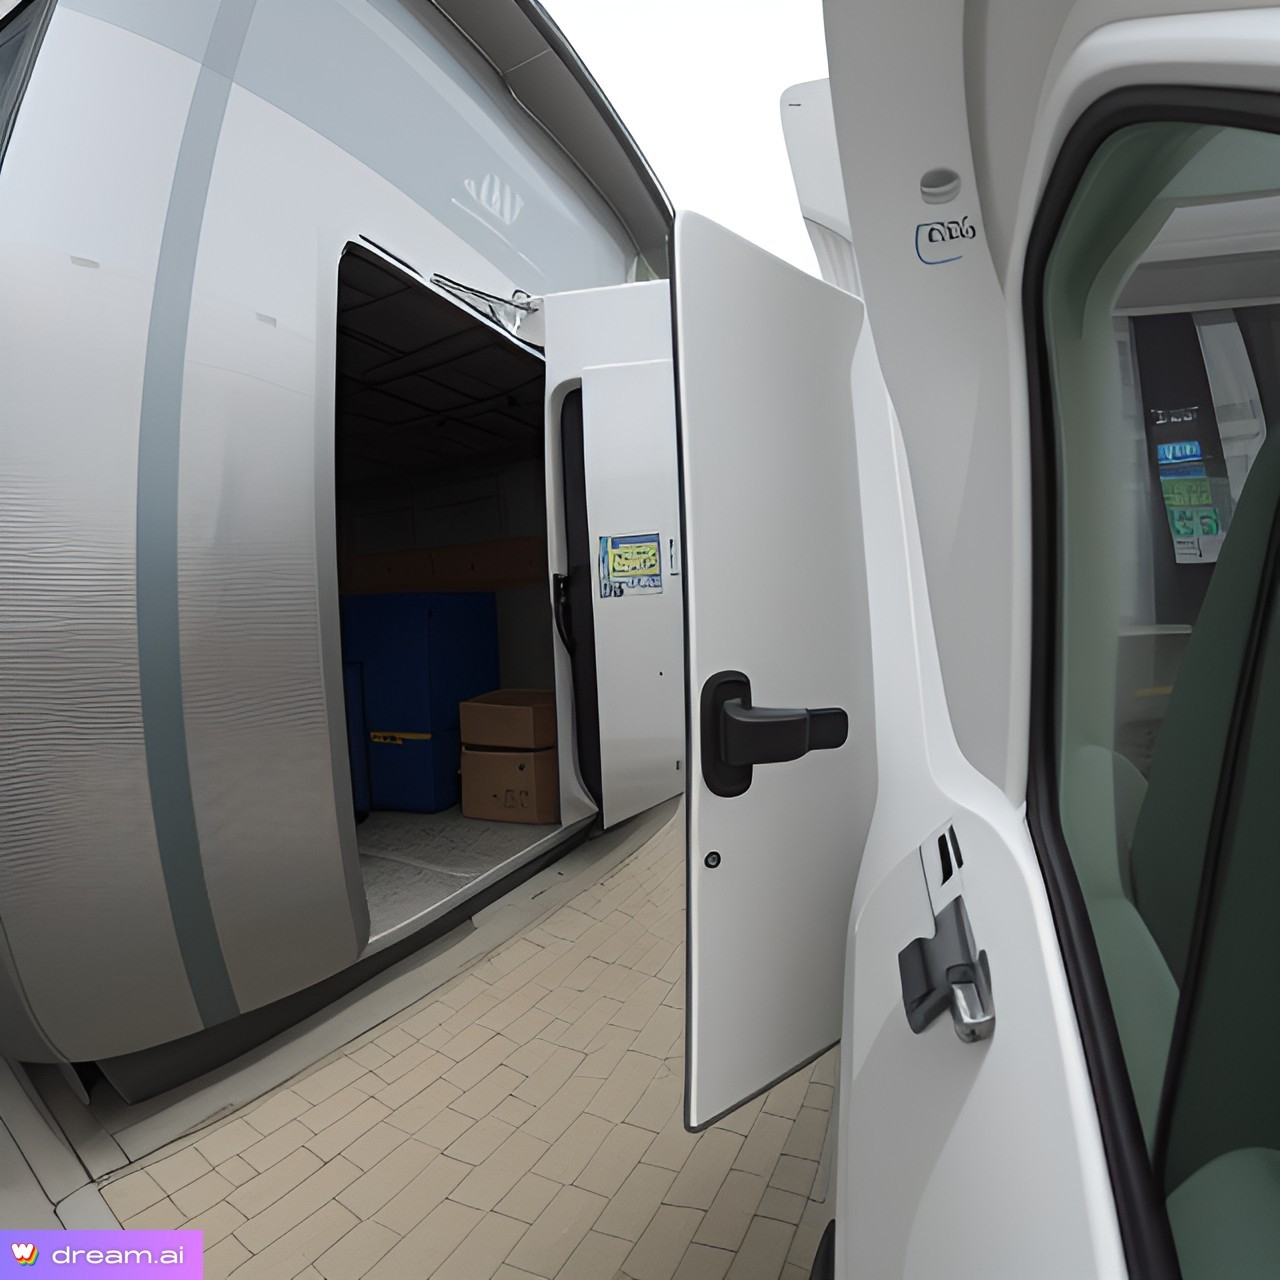door_front: (656, 192, 903, 1144)
